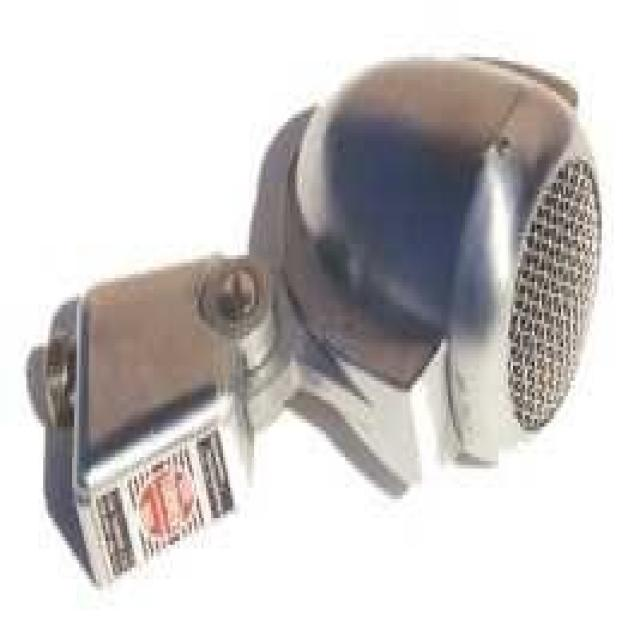microphone: (277, 55, 602, 468)
